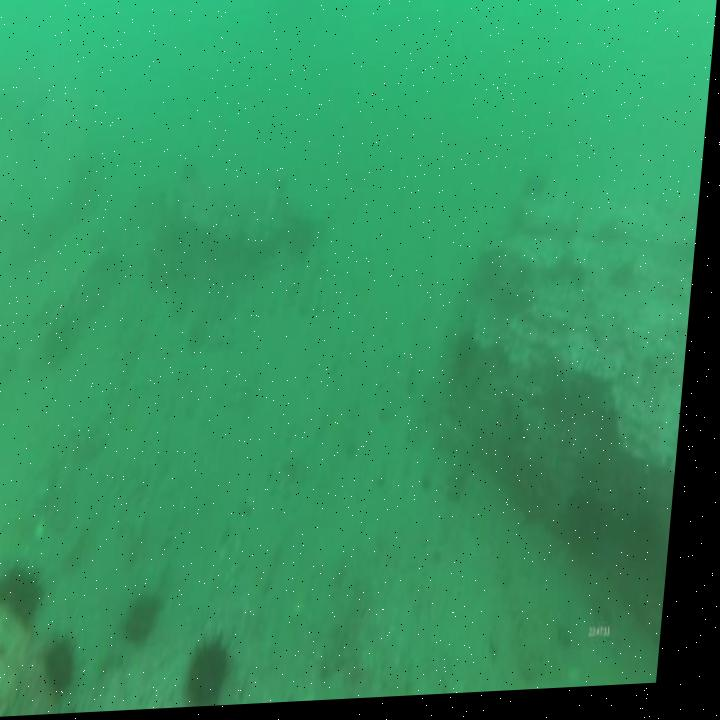echinus: (0, 554, 63, 638), (193, 630, 247, 710), (569, 489, 621, 567), (51, 629, 95, 703), (131, 588, 176, 651), (45, 314, 87, 372), (286, 215, 322, 268), (475, 248, 513, 298), (522, 172, 554, 215)
holothurian: (507, 564, 588, 697)
